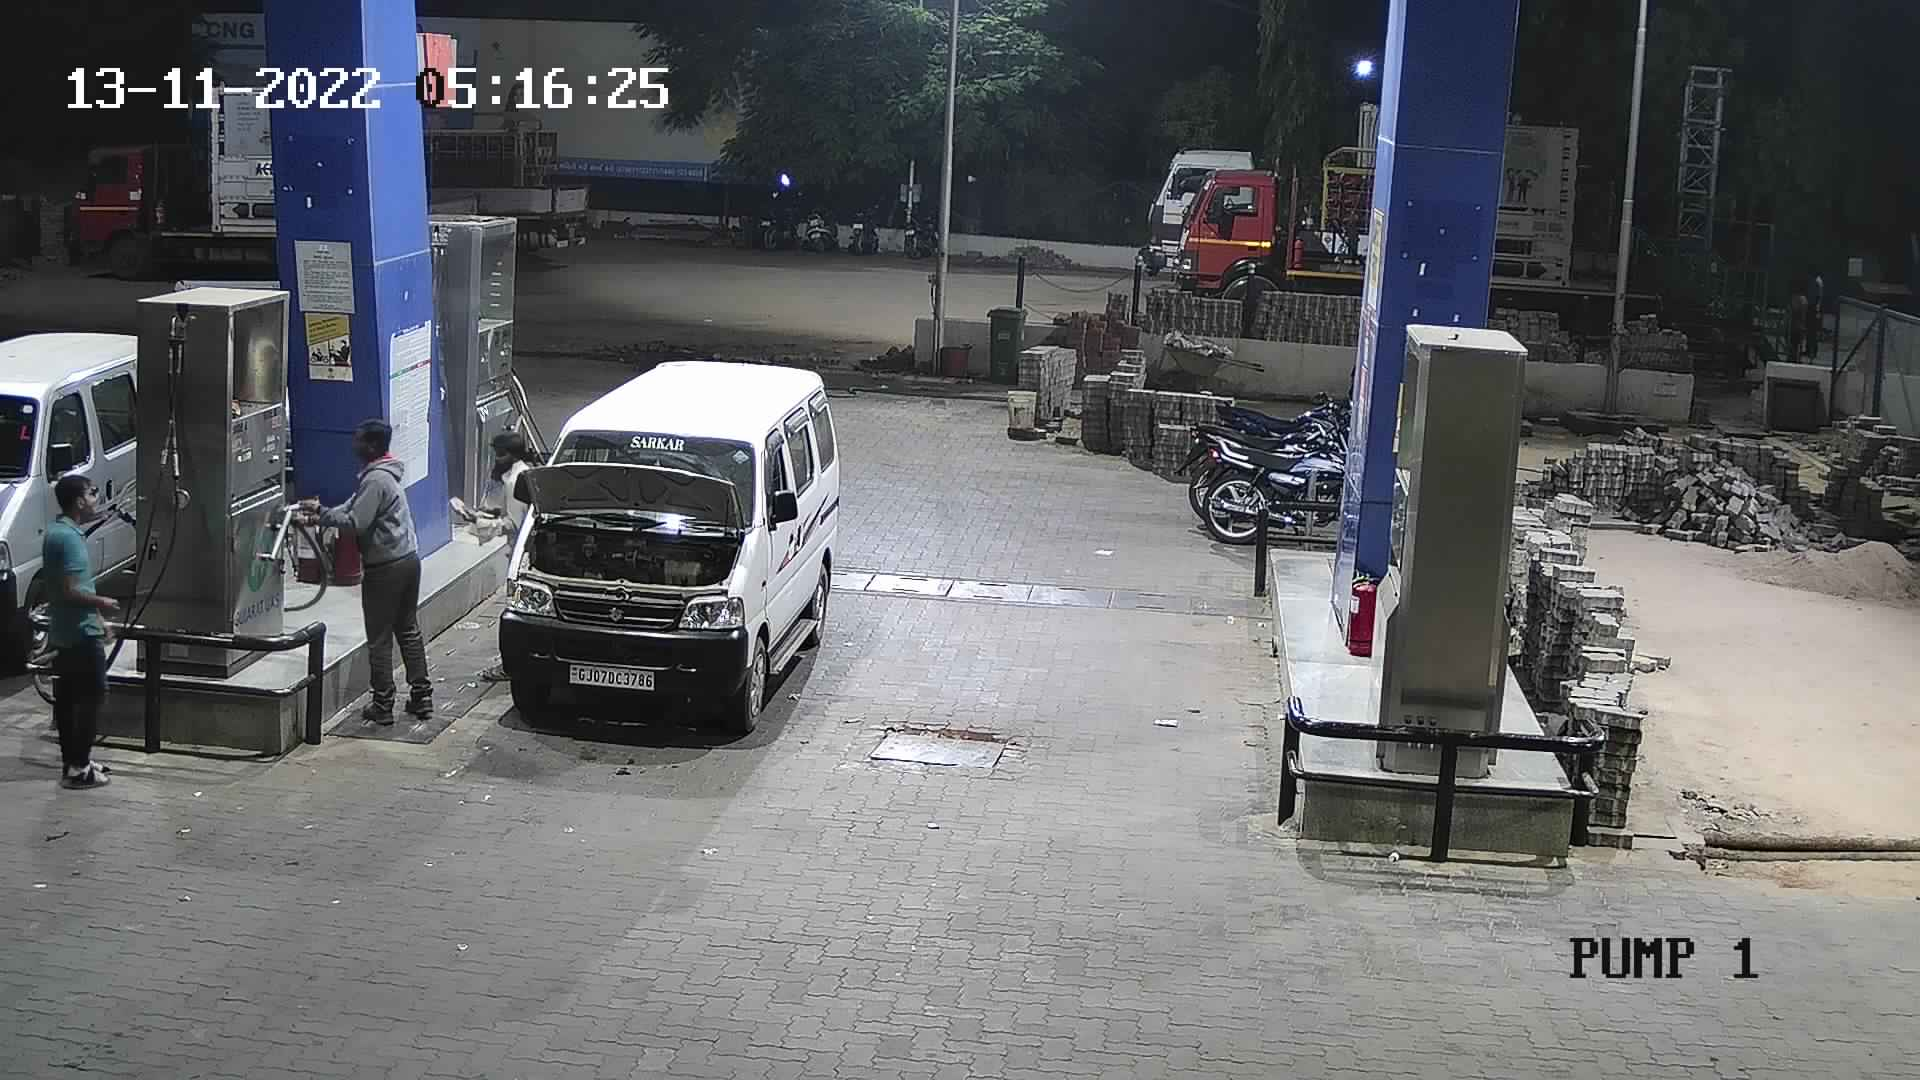Bike: (1175, 380, 1358, 564), (740, 179, 806, 253), (895, 193, 949, 269), (843, 185, 891, 260), (795, 187, 847, 257)
Car: (493, 342, 855, 740), (1, 297, 194, 657)
HMV: (50, 71, 287, 286), (1127, 94, 1379, 284), (1160, 138, 1375, 340), (406, 84, 599, 269)
Others: (311, 413, 440, 728)
